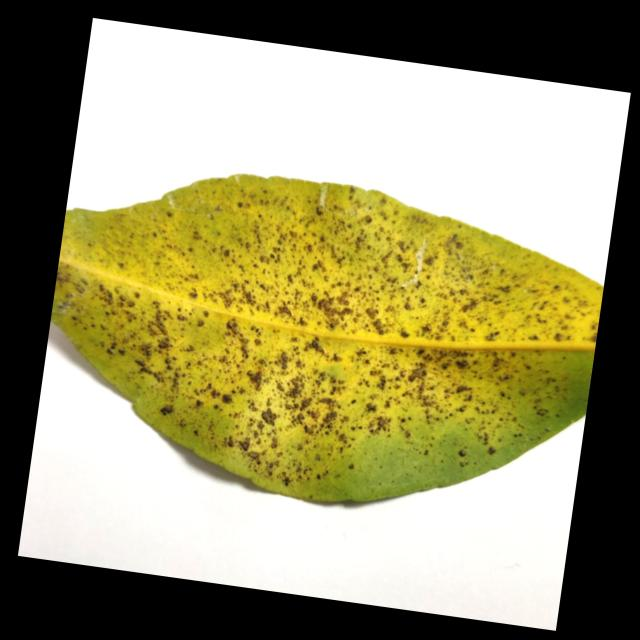melanose: (52, 175, 603, 501)
